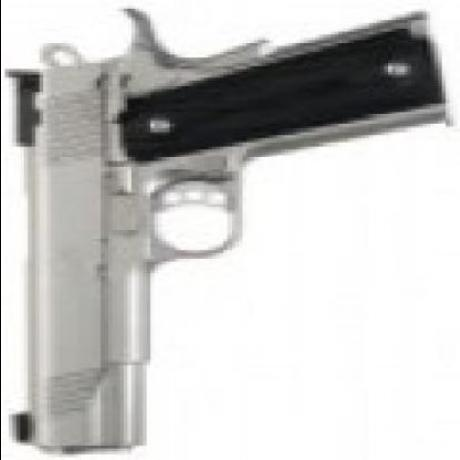weapon: (0, 4, 448, 460)
